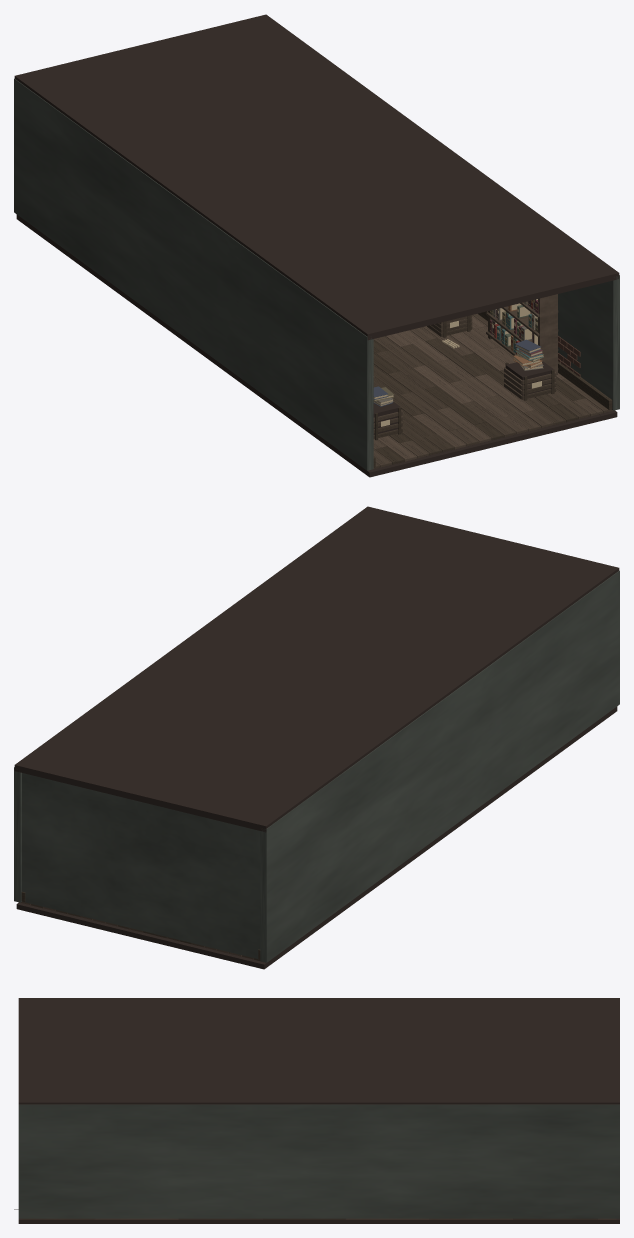
Rendered from bookstore.glb.
The picture shows the model from 3 angles, top to bottom: view 1: azimuth 30°, elevation 25°; view 2: azimuth 150°, elevation 25°; view 3: azimuth 270°, elevation 25°; orthographic projection. The views are drawn at different scales.
Visible parts, largest first — view 1: OldCuriosityShop; view 2: OldCuriosityShop; view 3: OldCuriosityShop.
Boxes of the visible parts, left/top/right/bottom form: OldCuriosityShop: left=14, top=14, right=619, bottom=477; OldCuriosityShop: left=14, top=506, right=619, bottom=969; OldCuriosityShop: left=14, top=998, right=619, bottom=1223.
Bounding box in the file's own units: 6.53 × 3.54 × 15.93.
Materials: 42 (12 with a texture image).
